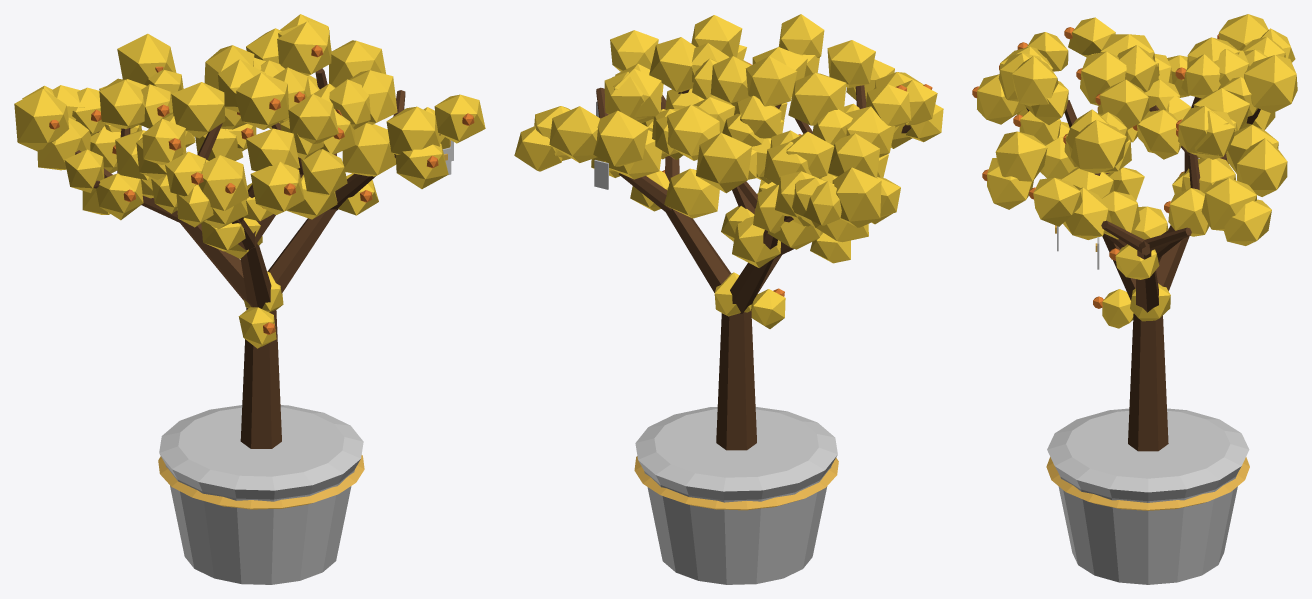
The model's file is ev_apricot_blossom_v01.glb.
3 renders of one model, left to right at view 1: azimuth 30°, elevation 25°; view 2: azimuth 150°, elevation 25°; view 3: azimuth 270°, elevation 25°, orthographic.
Visible parts, largest first — view 1: ev_apricot_blossom; view 2: ev_apricot_blossom; view 3: ev_apricot_blossom.
Part boxes in pixels (x1,y1,x2,y2): ev_apricot_blossom: (14, 14, 485, 584); ev_apricot_blossom: (514, 14, 943, 584); ev_apricot_blossom: (972, 14, 1297, 584).
Bounding box in the file's own units: 1.36 × 1.73 × 1.03.
